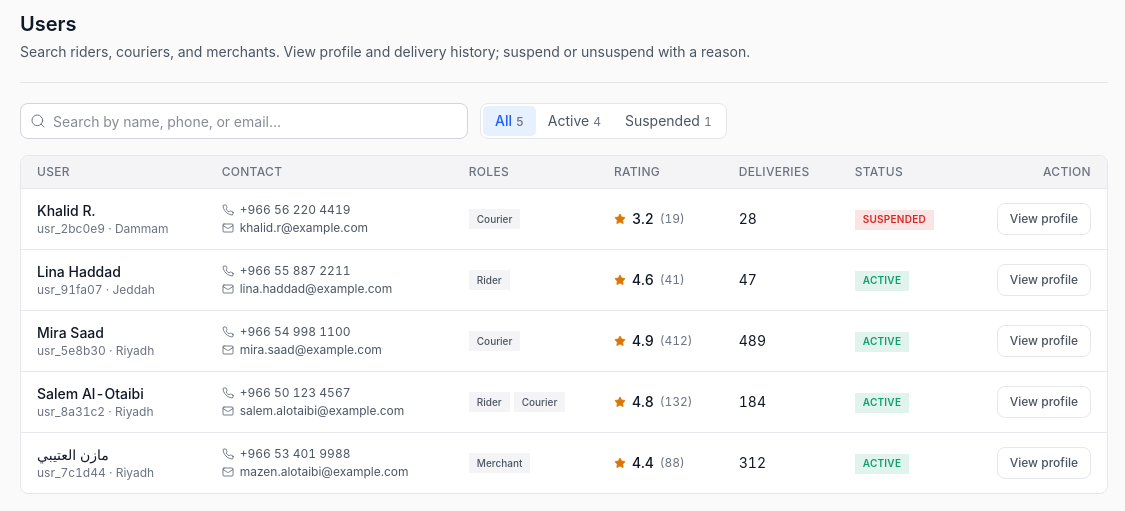
Test: <UsersAdminPage /> › shows an empty state when search has no matches
Type "zzzzz-nomatch" into the search field named "search users". click: {"x": 244, "y": 121}
box: [20,103,468,139]
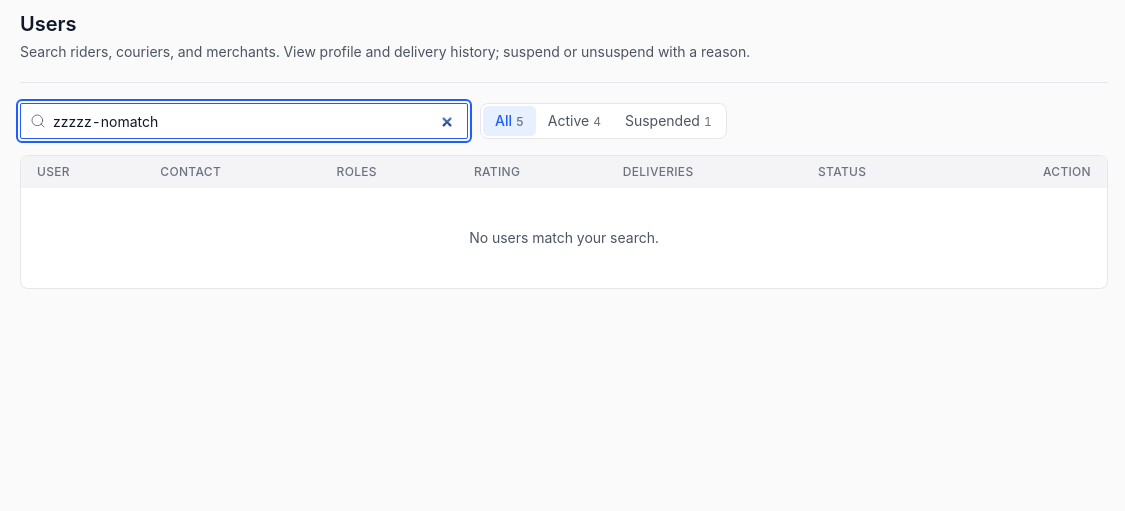
Expected: the text "No users match your search." is shown, [21,188,1107,288]
